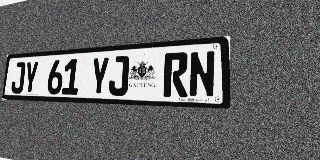1: (62, 58, 80, 95)
6: (47, 59, 64, 94)
J: (108, 55, 129, 96), (11, 62, 26, 94)
N: (188, 50, 216, 98)
R: (163, 52, 188, 97)
Y: (90, 57, 110, 95), (23, 61, 39, 94)
